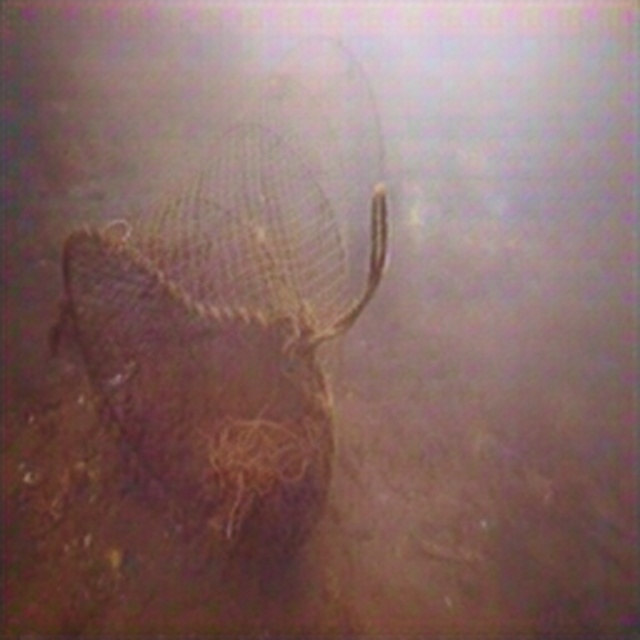mine: (60, 32, 385, 570)
